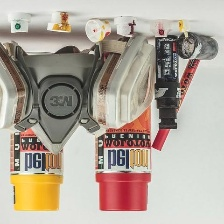aerosol_cans: (92, 40, 153, 214), (7, 50, 67, 215)
